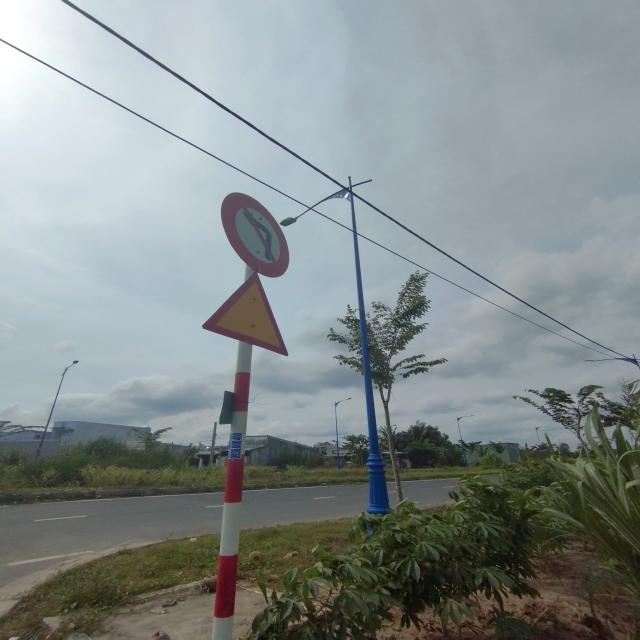Cam_Re_Trai: (221, 192, 290, 278)
Gioi_Han_Toc_Do_25: (200, 272, 289, 356)
